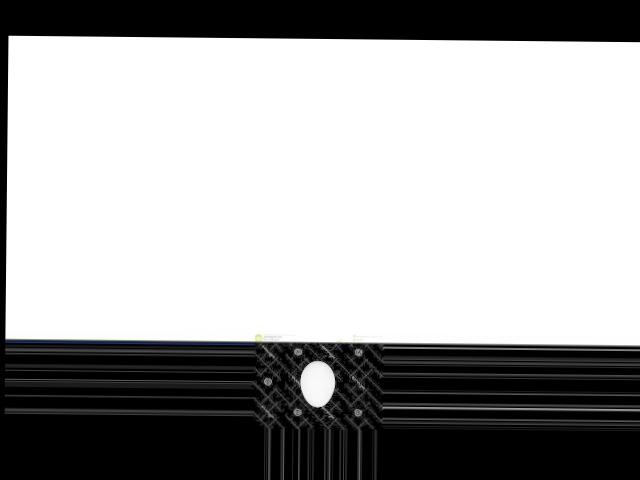egg: (301, 360, 336, 406)
